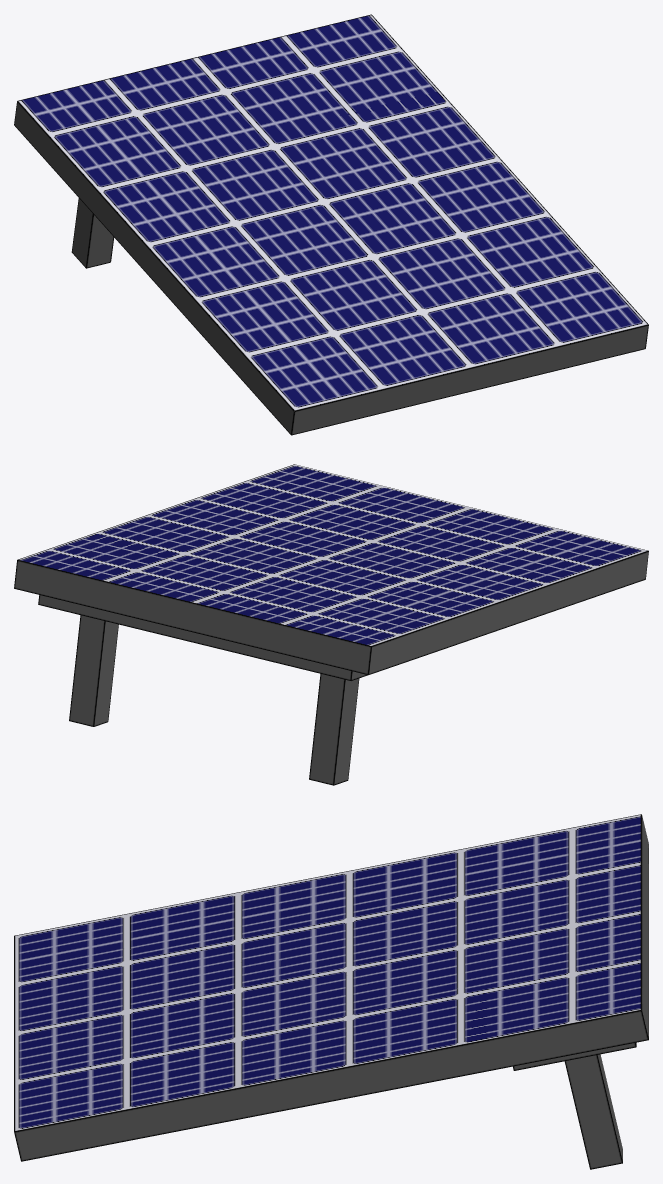
The model's file is Prop_Panel_Solar.fbx.
3 views of the same model, one above another, from view 1: azimuth 30°, elevation 25°; view 2: azimuth 150°, elevation 25°; view 3: azimuth 270°, elevation 25° (orthographic). The views are drawn at different scales.
Parts seen in each view (by area): view 1: Cube.028; view 2: Cube.028; view 3: Cube.028.
Part boxes in pixels (left/top/right/bottom): Cube.028: left=14, top=14, right=648, bottom=435; Cube.028: left=14, top=464, right=648, bottom=785; Cube.028: left=14, top=814, right=648, bottom=1169.
Bounding box in the file's own units: 6.26 × 2.74 × 8.57.
